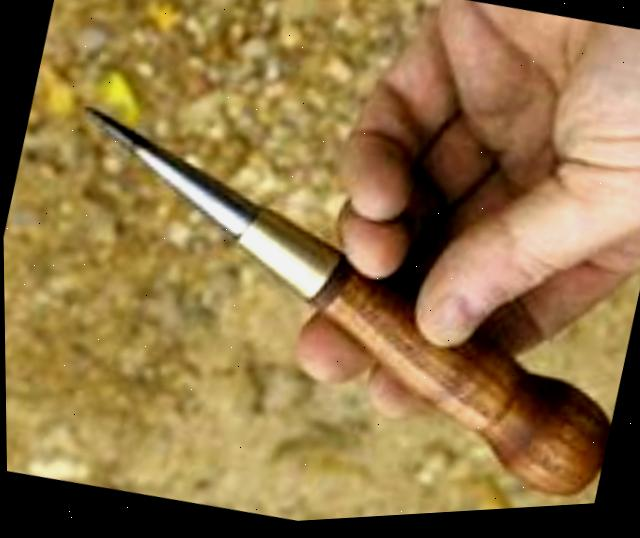ice pick: (27, 82, 640, 530)
